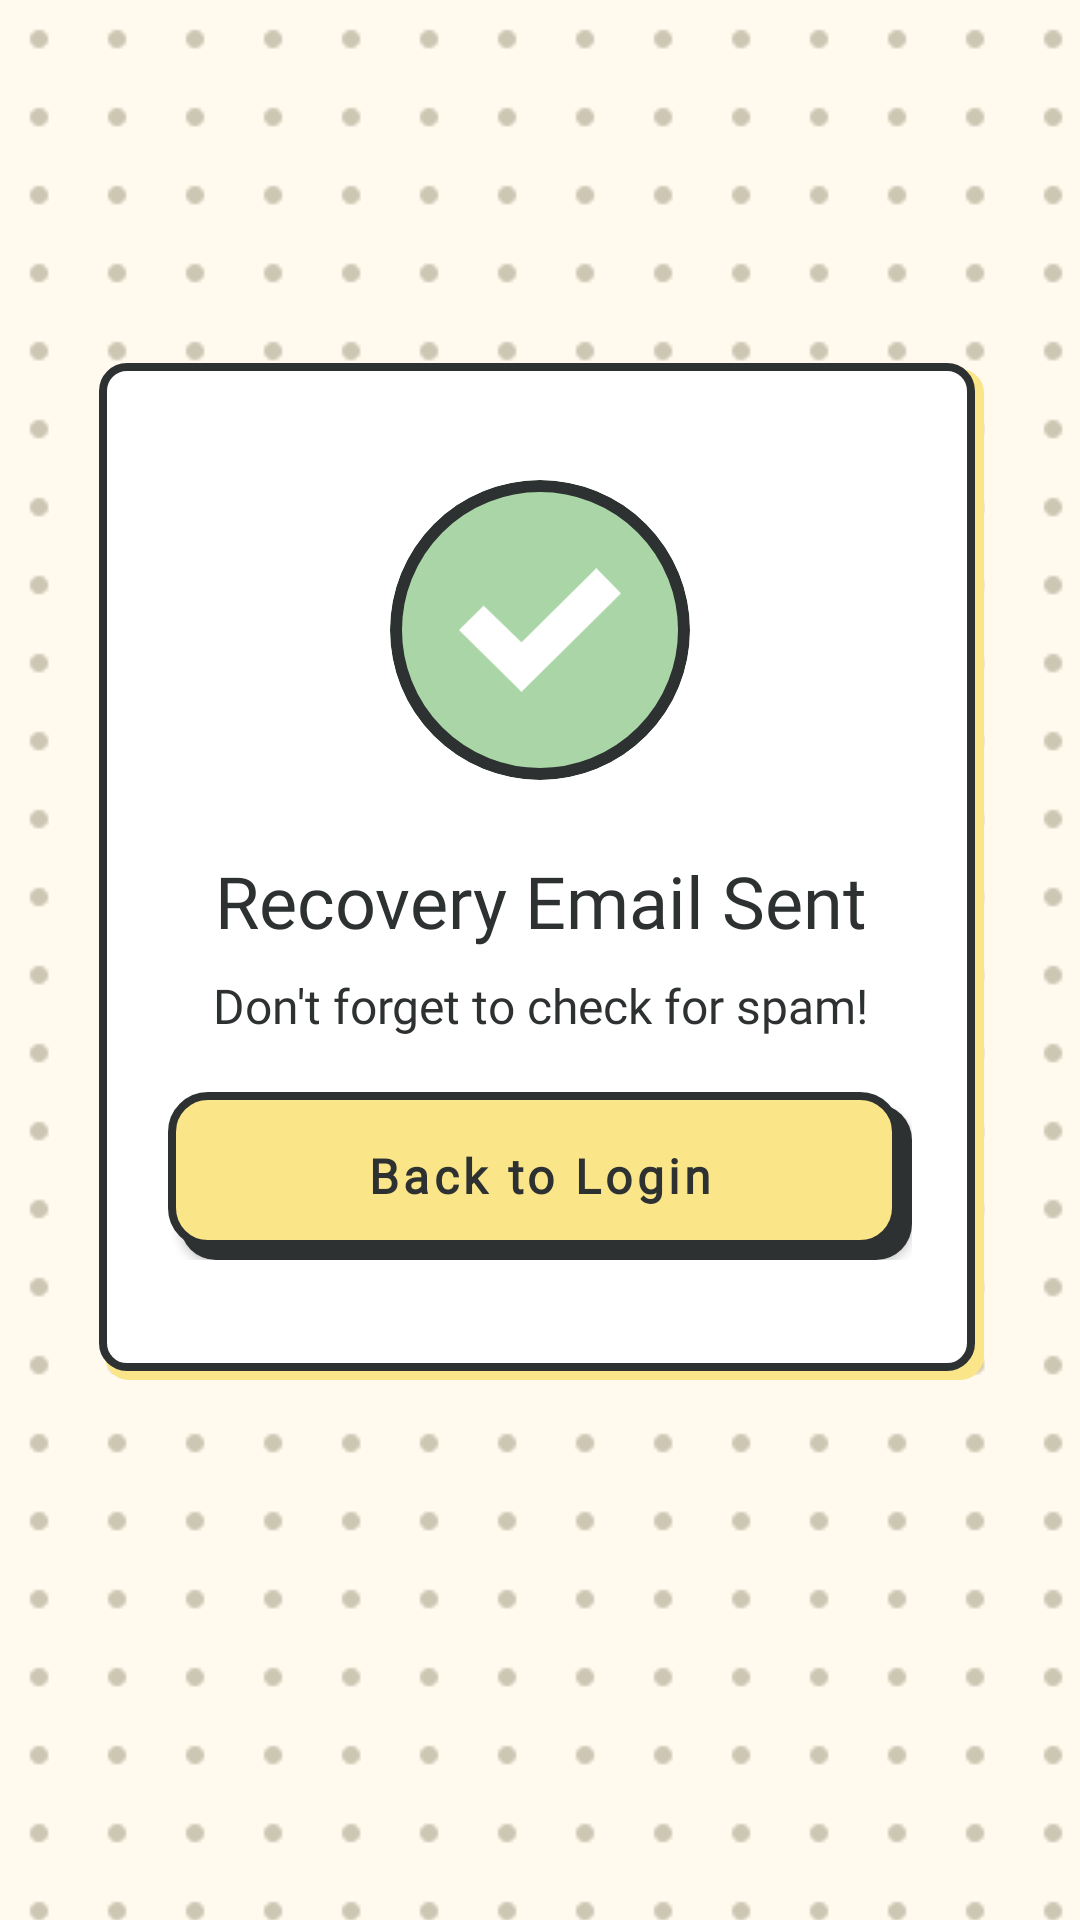

Screen size 1080*1920. Icon name, then its center in pixels as (x=x, y=y):
tick: (x=540, y=630)
